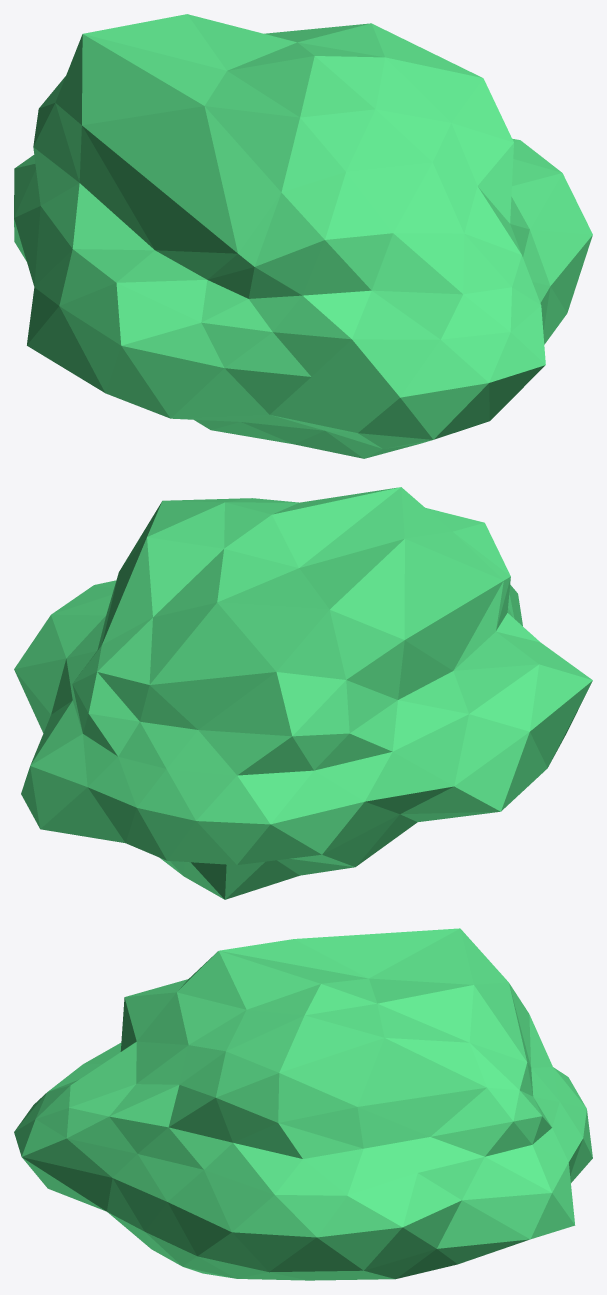
The model's file is krzak_2.fbx.
3 views of the same model, one above another, from view 1: azimuth 30°, elevation 25°; view 2: azimuth 150°, elevation 25°; view 3: azimuth 270°, elevation 25° (orthographic). The views are drawn at different scales.
Parts seen in each view (by area): view 1: Icosphere; view 2: Icosphere; view 3: Icosphere.
Part boxes in pixels (x1,y1,x2,y2): Icosphere: [14, 14, 592, 458]; Icosphere: [14, 487, 592, 899]; Icosphere: [14, 928, 592, 1280].
Size of the model in its own units: 821 by 478 by 978.
